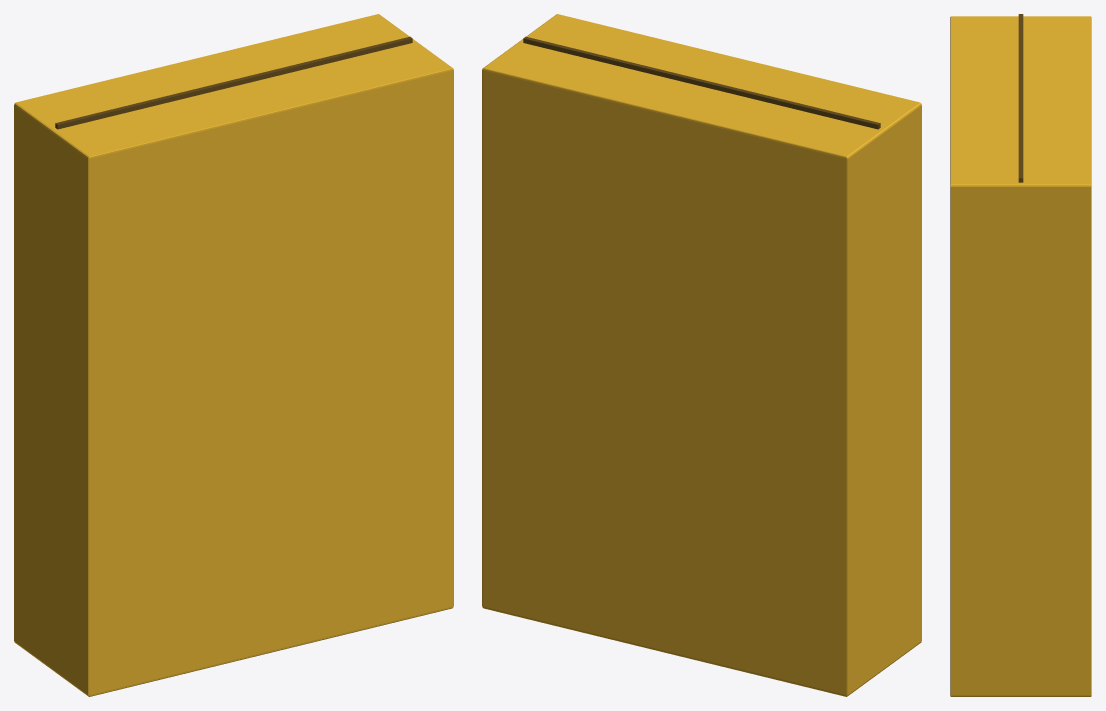
Rendered from Grocery_Cereal_Box.obj.
The picture shows the model from 3 angles, left to right: view 1: azimuth 30°, elevation 25°; view 2: azimuth 150°, elevation 25°; view 3: azimuth 270°, elevation 25°; orthographic projection. The views are drawn at different scales.
Parts seen in each view (by area): view 1: Cube, Cube.001; view 2: Cube, Cube.001; view 3: Cube, Cube.001.
Part boxes in pixels (bbox=[...]): Cube: bbox=[14, 14, 453, 696]; Cube.001: bbox=[55, 36, 412, 129]; Cube: bbox=[482, 14, 921, 696]; Cube.001: bbox=[523, 36, 880, 129]; Cube: bbox=[950, 16, 1091, 696]; Cube.001: bbox=[1018, 14, 1023, 182].
Bounding box in the file's own units: 0.17 × 0.242 × 0.06.
